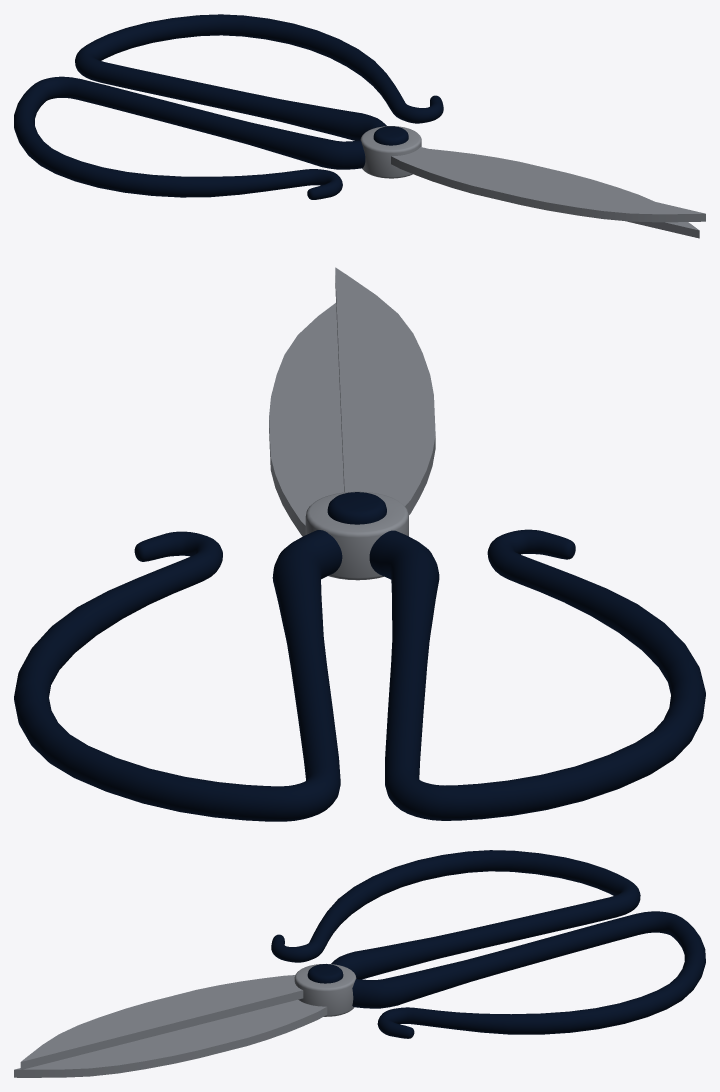
Rendered from F_Scissors_01.fbx.
The picture shows the model from 3 angles, top to bottom: view 1: azimuth 30°, elevation 25°; view 2: azimuth 150°, elevation 25°; view 3: azimuth 270°, elevation 25°; orthographic projection. The views are drawn at different scales.
Visible parts, largest first — view 1: F_Scissors_01; view 2: F_Scissors_01; view 3: F_Scissors_01.
Part boxes in pixels (x1=…): F_Scissors_01: x1=14, y1=14, x2=705, y2=238; F_Scissors_01: x1=14, y1=267, x2=705, y2=821; F_Scissors_01: x1=14, y1=850, x2=705, y2=1077.
Size of the model in its own units: 14.75 by 1.31 by 20.06.
Materials: 1 (1 with a texture image).
